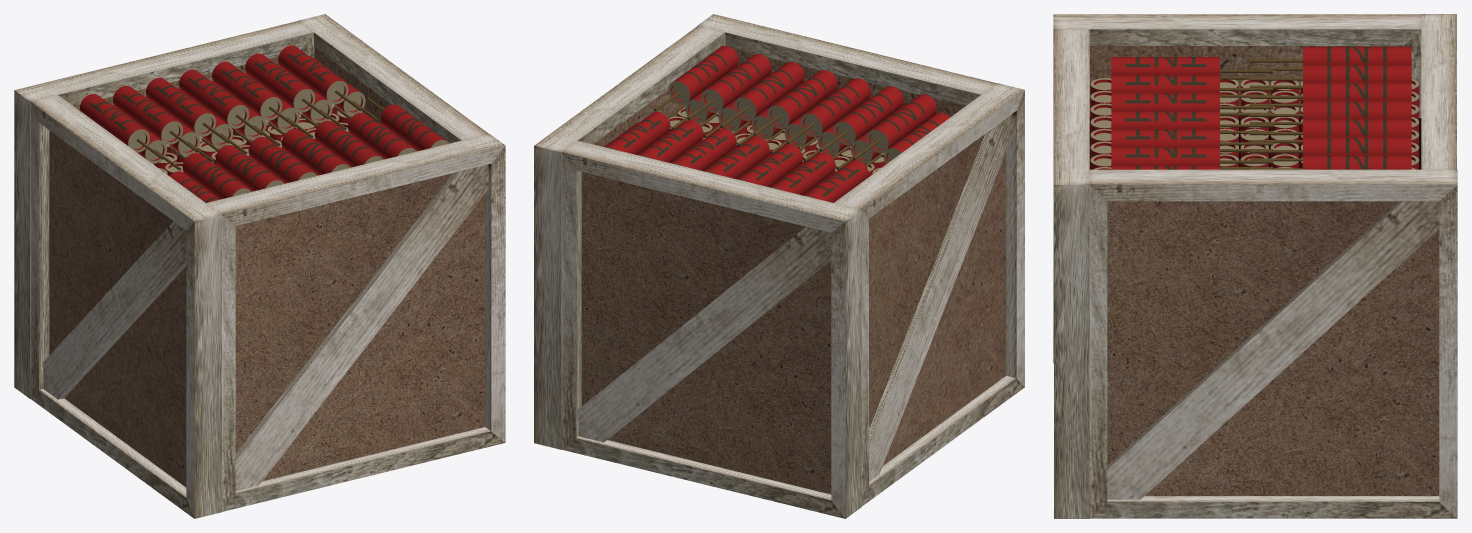
The model's file is dynamite_crate_open.fbx.
3 views of the same model, side by side, from view 1: azimuth 30°, elevation 25°; view 2: azimuth 150°, elevation 25°; view 3: azimuth 270°, elevation 25° (orthographic). The views are drawn at different scales.
Visible parts, largest first — view 1: dynamite_crate_open; view 2: dynamite_crate_open; view 3: dynamite_crate_open.
Part boxes in pixels (left/top/right/bottom): dynamite_crate_open: left=14, top=14, right=505, bottom=518; dynamite_crate_open: left=534, top=14, right=1024, bottom=518; dynamite_crate_open: left=1053, top=14, right=1457, bottom=518.
Size of the model in its own units: 113 by 113 by 103.
